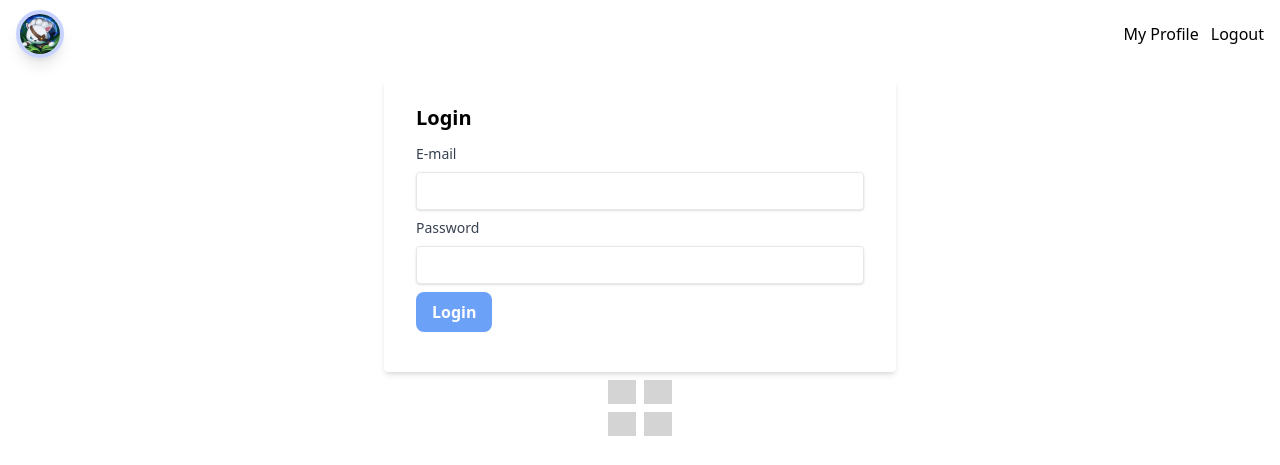
App › Login › should displays user page when click on My Profile link
In the field labelled "E-mail": point(640, 191) [416,172,864,210], type "admin@localhost"
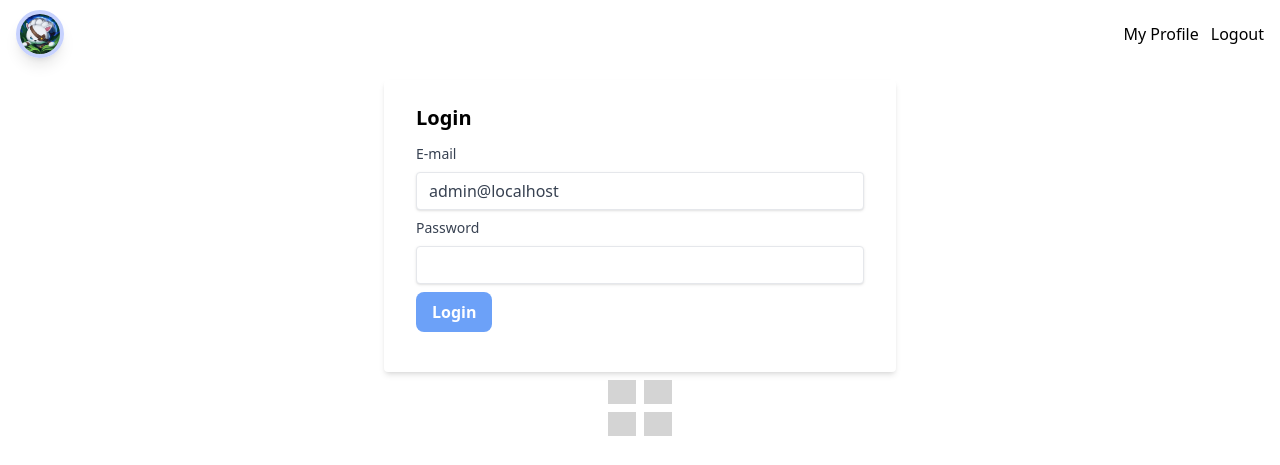
In the password field labelled "Password": point(640, 265) [416,246,864,284], type "admin"
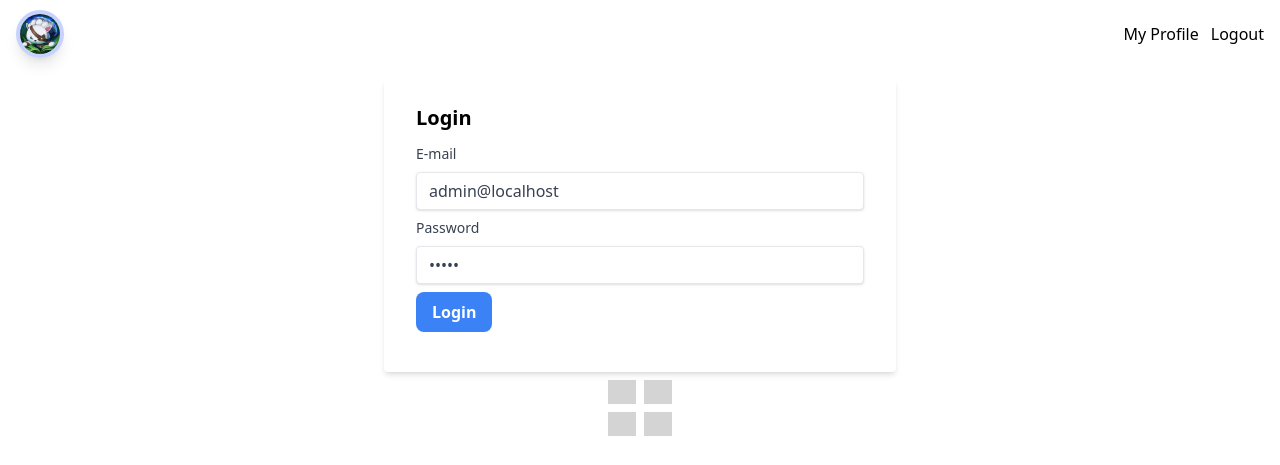
Click the button "Login": point(454, 312) [416,292,492,332]
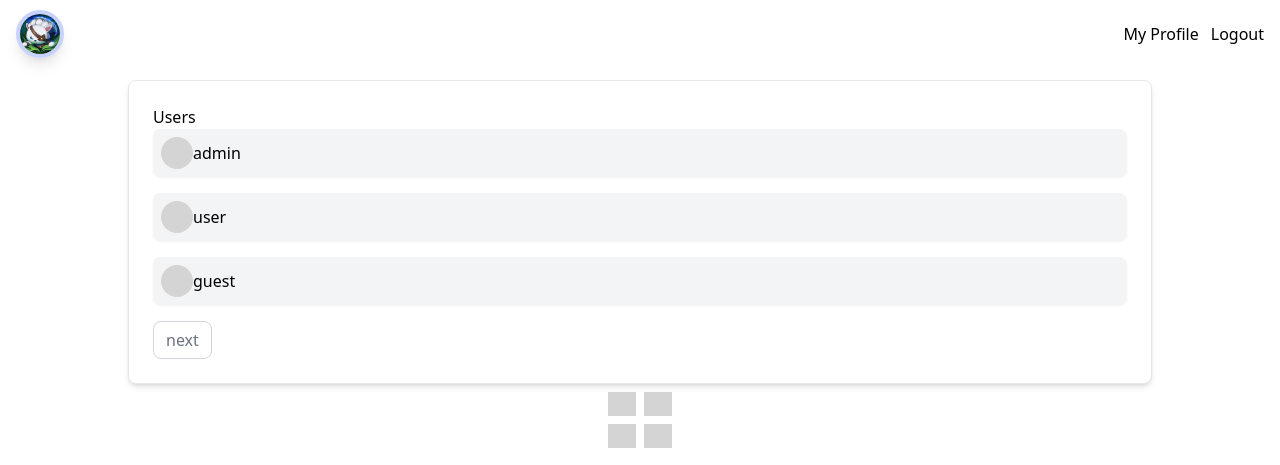
Click the link "My Profile": point(1161, 34) [1124,22,1199,46]
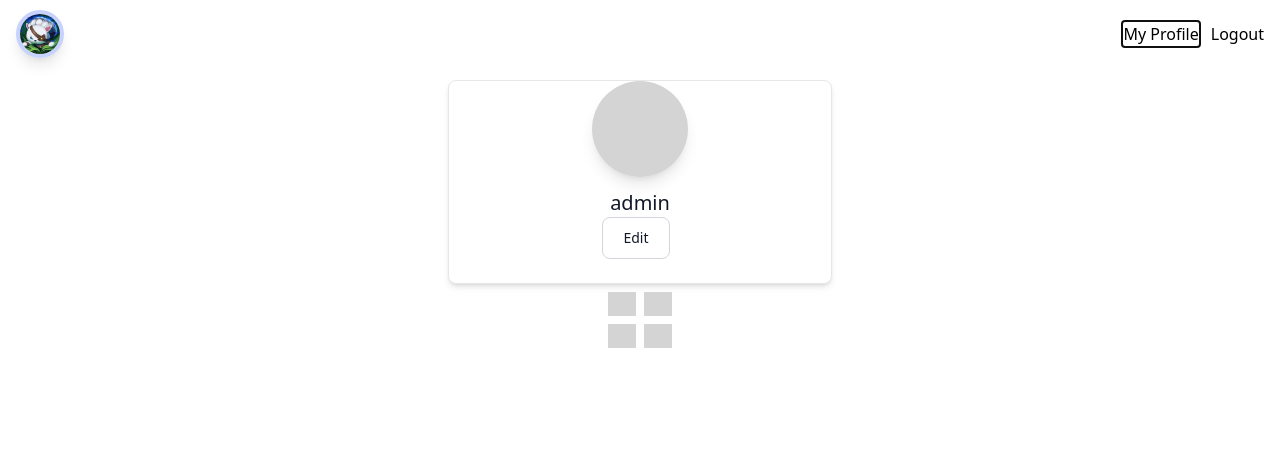
Now the heading "admin" is shown, box [610,189,670,217]
Now the element with test id "user-page" is shown, box [448,80,832,284]
